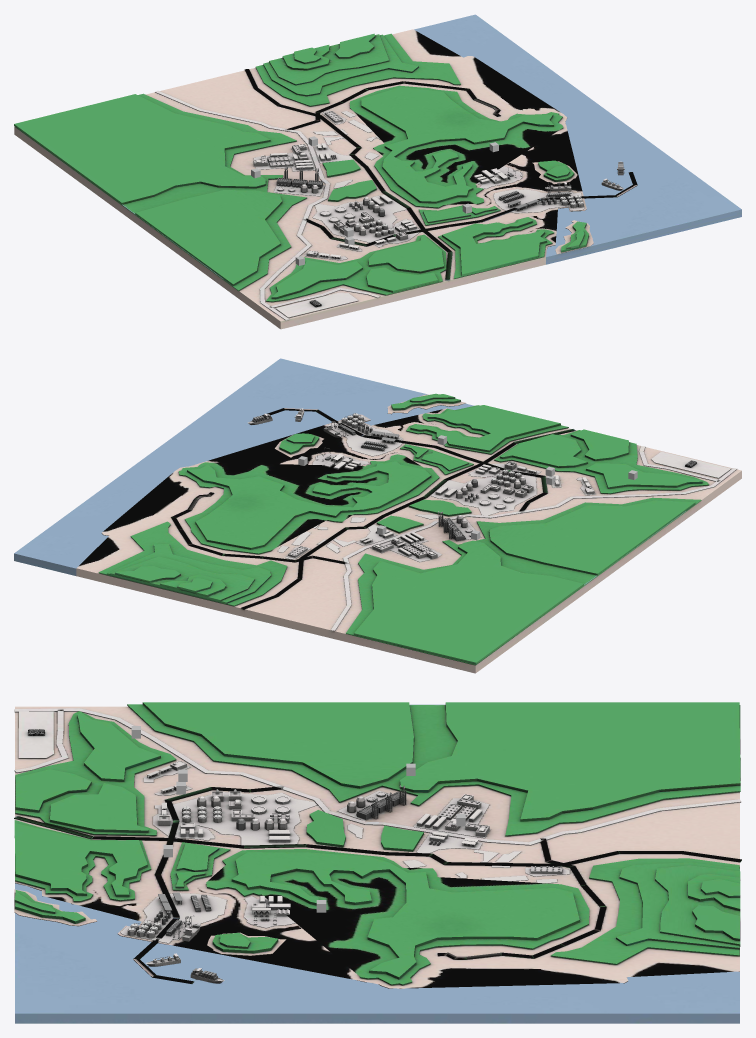
The model's file is mapa suape_v8.obj.
The picture shows the model from 3 angles, top to bottom: view 1: azimuth 30°, elevation 25°; view 2: azimuth 150°, elevation 25°; view 3: azimuth 270°, elevation 25°; orthographic projection. The views are drawn at different scales.
Parts seen in each view (by area): view 1: big, medium, small; view 2: big, medium, small; view 3: big, medium, small.
Boxes of the visible parts, <box> form: big: <box>14,14,741,329</box>; medium: <box>253,110,584,317</box>; small: <box>253,111,624,320</box>; big: <box>14,358,741,673</box>; medium: <box>277,415,730,561</box>; small: <box>247,408,696,558</box>; big: <box>14,702,741,1023</box>; medium: <box>18,754,569,943</box>; small: <box>14,710,562,983</box>.
Bounding box in the file's own units: 12.19 × 0.5906 × 12.22.
